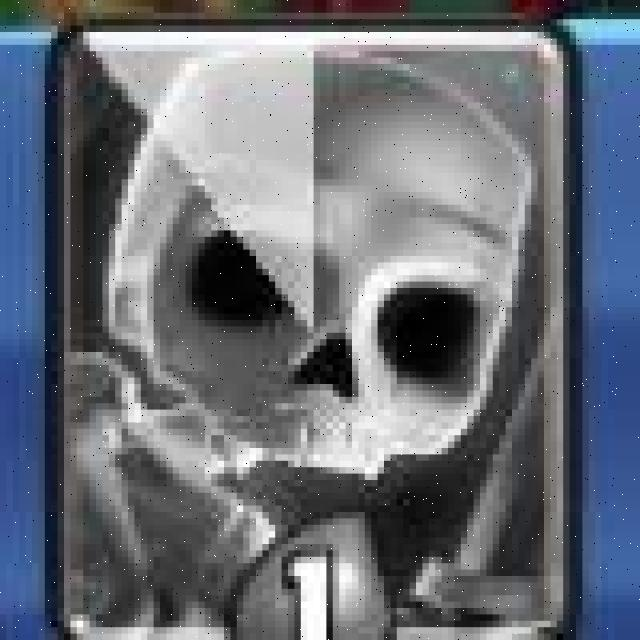Skeletons: (58, 23, 568, 640)
